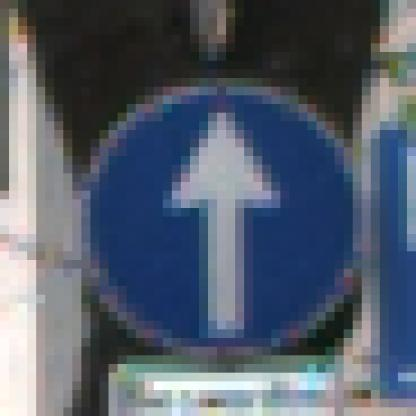AheadOnly: (46, 44, 372, 374)
